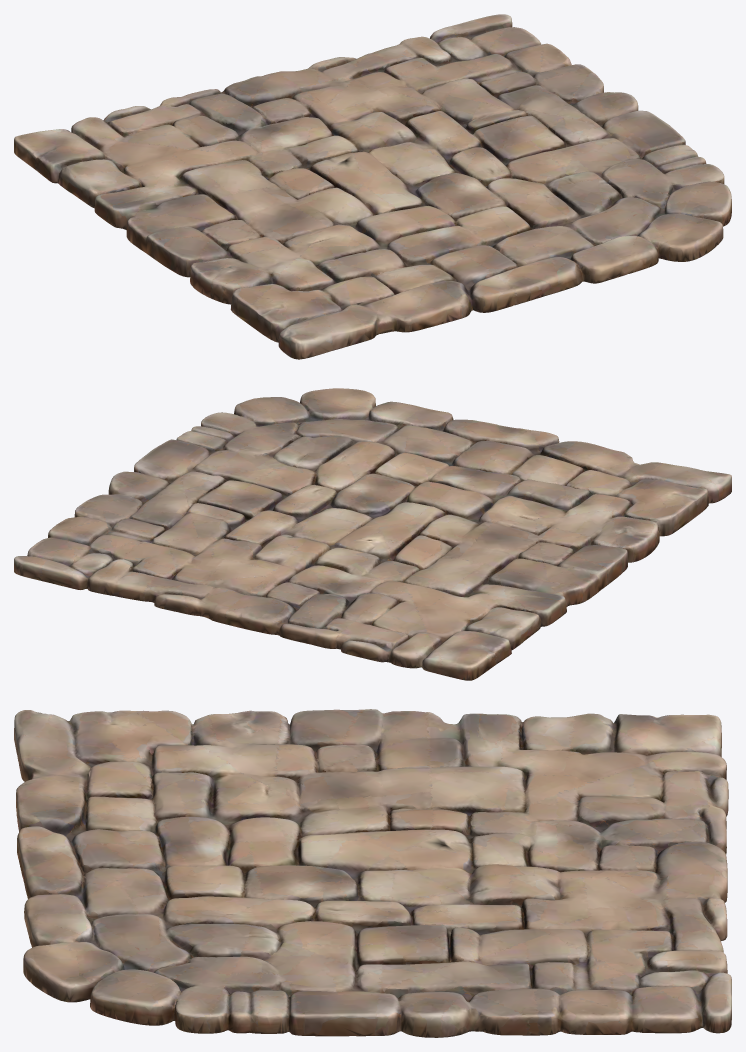
Rendered from flooring2.glb.
3 renders of one model, top to bottom at view 1: azimuth 30°, elevation 25°; view 2: azimuth 150°, elevation 25°; view 3: azimuth 270°, elevation 25°, orthographic. The views are drawn at different scales.
Bounding box in the file's own units: 2 × 0.0742 × 1.97.
Materials: 1 (1 with a texture image).
